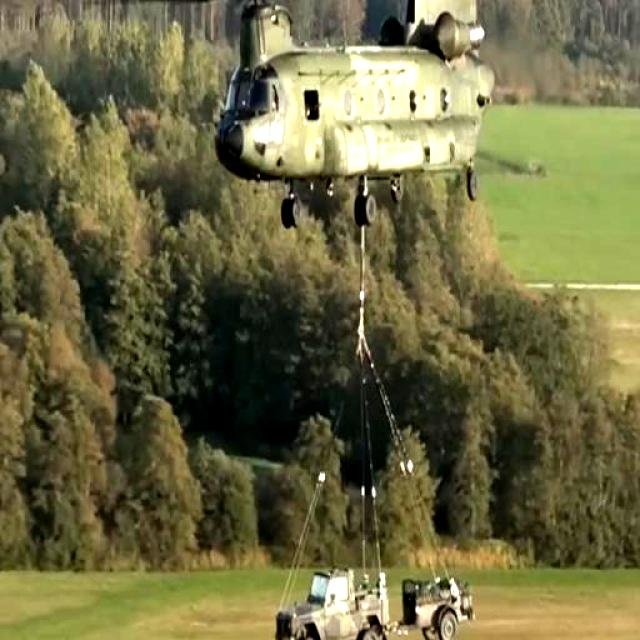drone: (192, 0, 554, 211)
